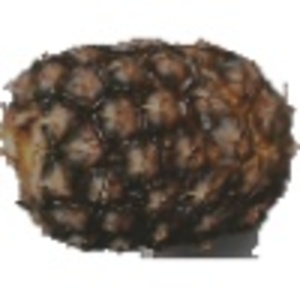abacaxi: (1, 30, 297, 253)
